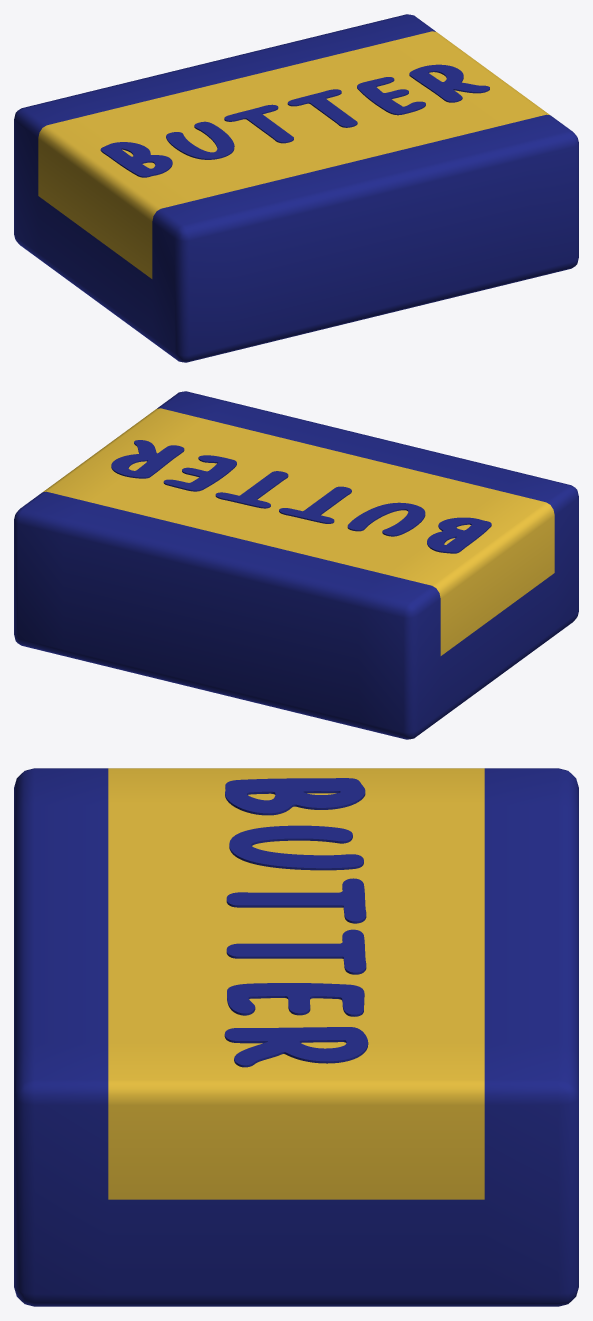
Rendered from butter.fbx.
3 renders of one model, top to bottom at view 1: azimuth 30°, elevation 25°; view 2: azimuth 150°, elevation 25°; view 3: azimuth 270°, elevation 25°, orthographic. The views are drawn at different scales.
Parts seen in each view (by area): view 1: Cube.052, Text.004; view 2: Cube.052, Text.004; view 3: Cube.052, Text.004.
Boxes of the visible parts, box(x1,y1,x2,y2) form: Cube.052: box(14, 14, 578, 362); Text.004: box(100, 64, 489, 177); Cube.052: box(14, 391, 578, 739); Text.004: box(111, 440, 491, 553); Cube.052: box(14, 768, 578, 1306); Text.004: box(224, 778, 368, 1067).
Size of the model in its own units: 112 by 36.63 by 82.19.
